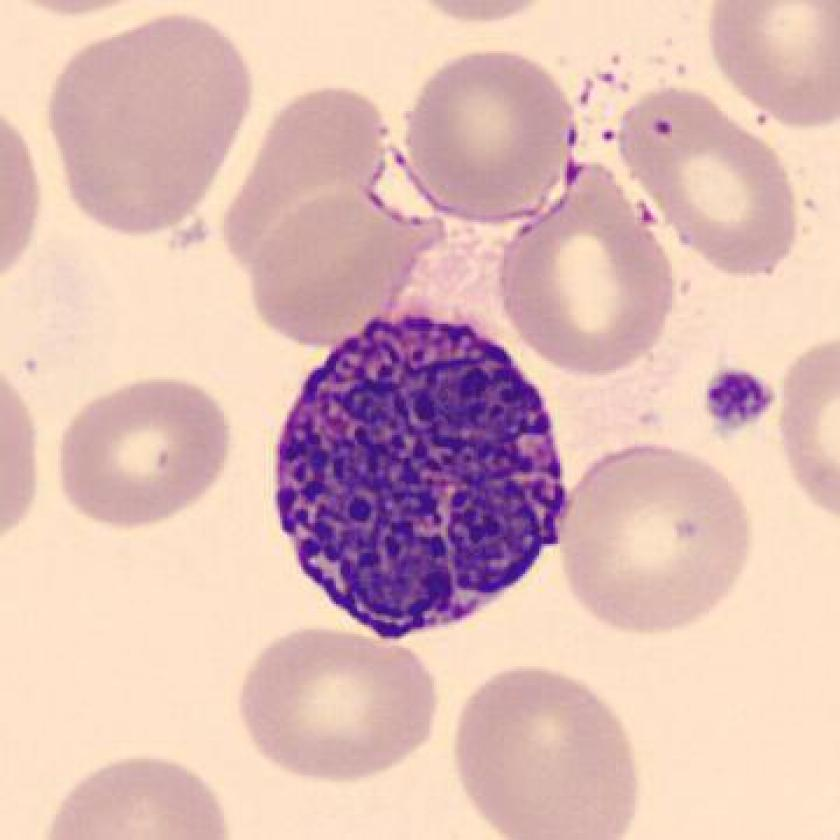basophil: (267, 304, 589, 658)
